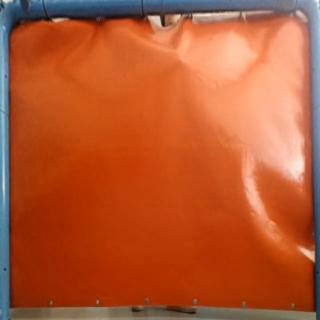Hit-hRxx: (170, 52, 186, 65)
